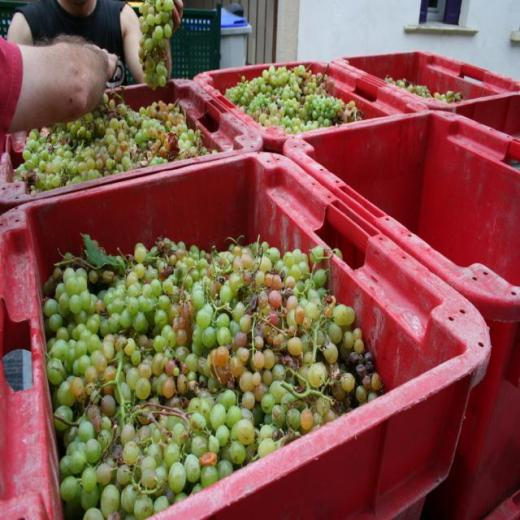Orange: (40, 238, 382, 520), (12, 89, 219, 192), (220, 64, 364, 135), (138, 0, 172, 92), (382, 78, 464, 104)
